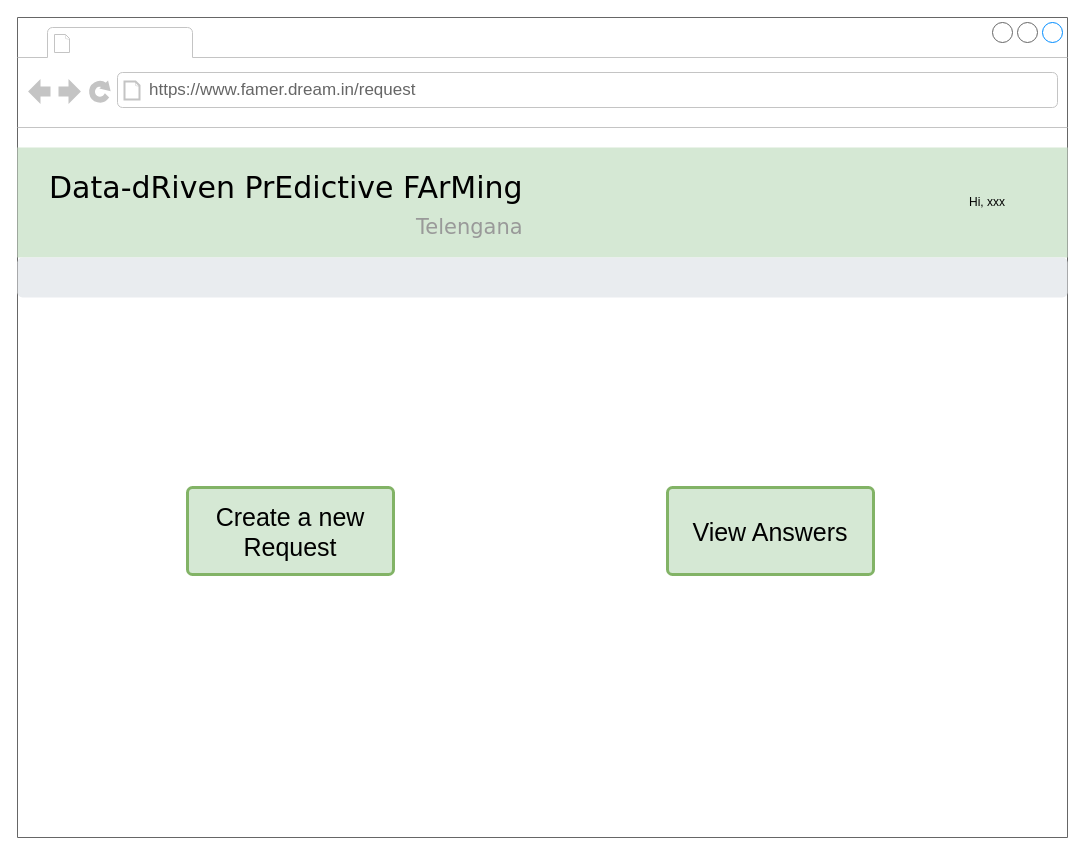
This 1084x854 diagram has some shape labels left out. Here are the shapes that lost their labels. From the top down, the box of each, then its label:
(76, 28, 188, 56): Home
(17, 257, 1067, 297): Home / Request
